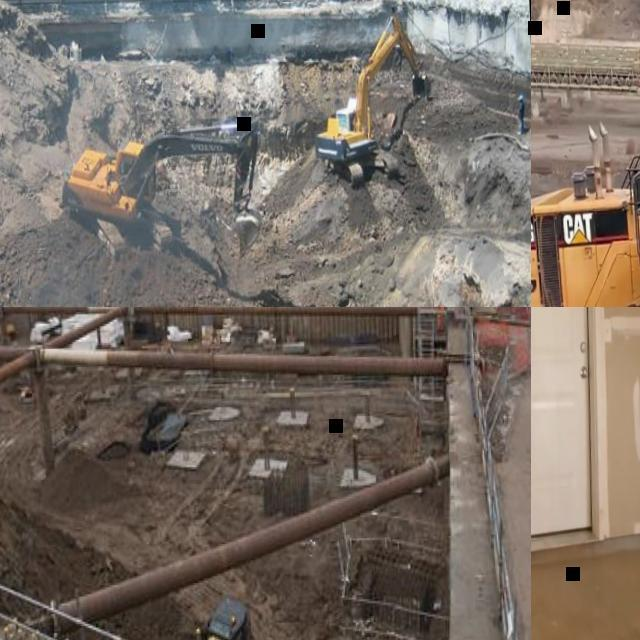vest: (434, 307, 447, 333)
